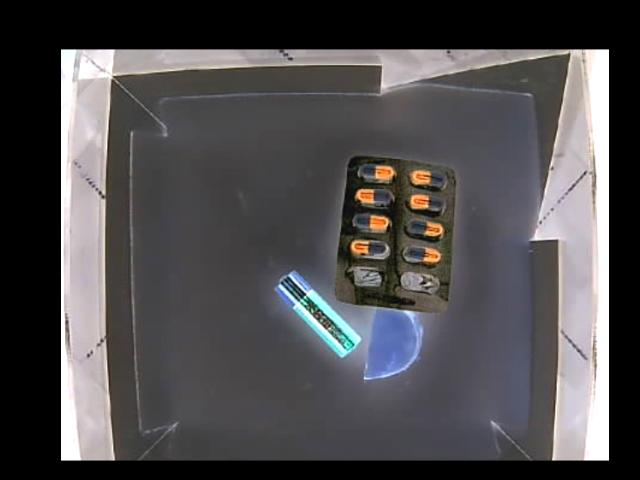Battery: (275, 272, 359, 358)
Medicine: (340, 154, 453, 316)
Potato: (367, 306, 422, 381)
